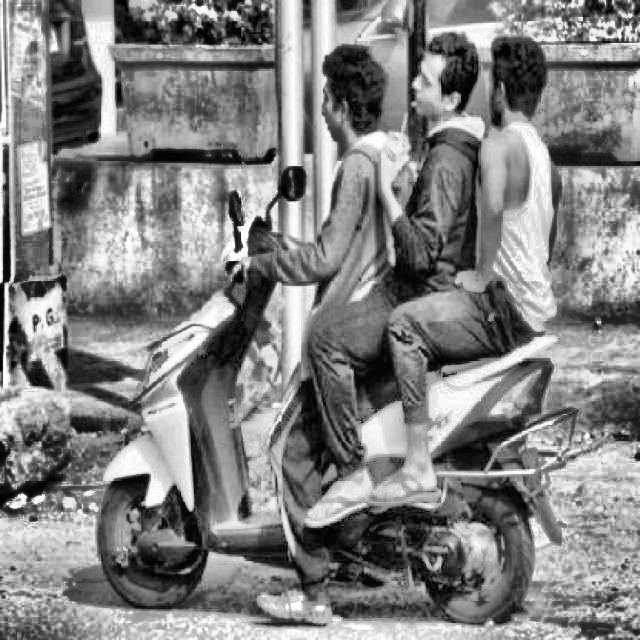motorcycle: (100, 173, 593, 640)
